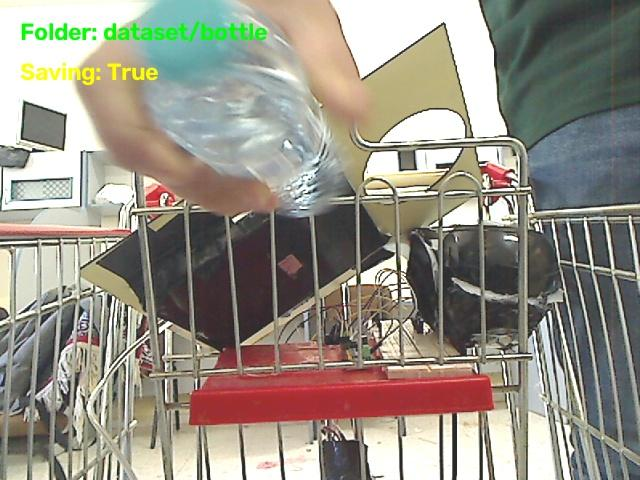Bottle: (129, 0, 342, 216)
